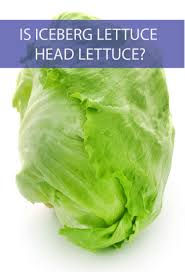Lettuce: (12, 12, 167, 263)
